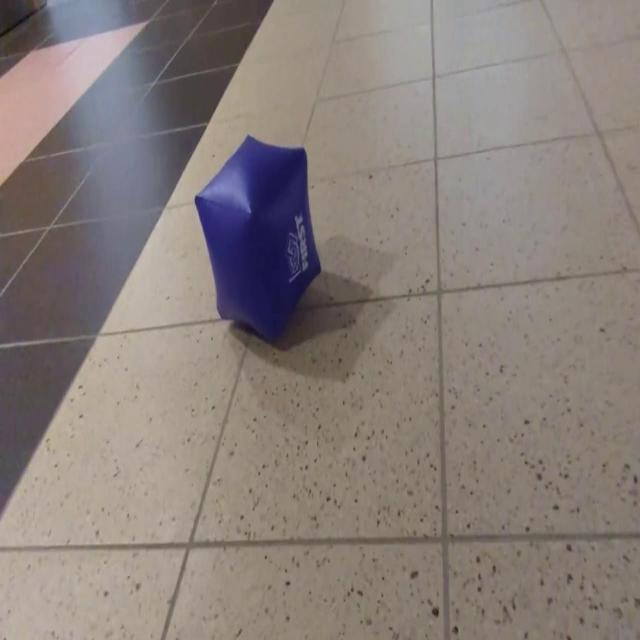frc_cube: (198, 137, 322, 345)
